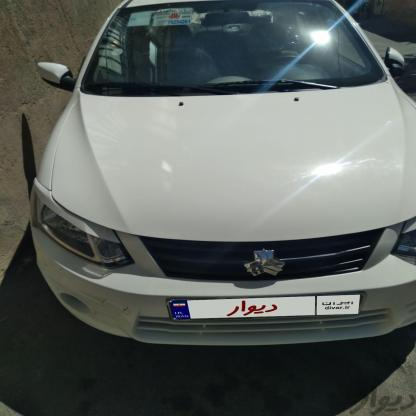Car: (8, 0, 416, 345)
